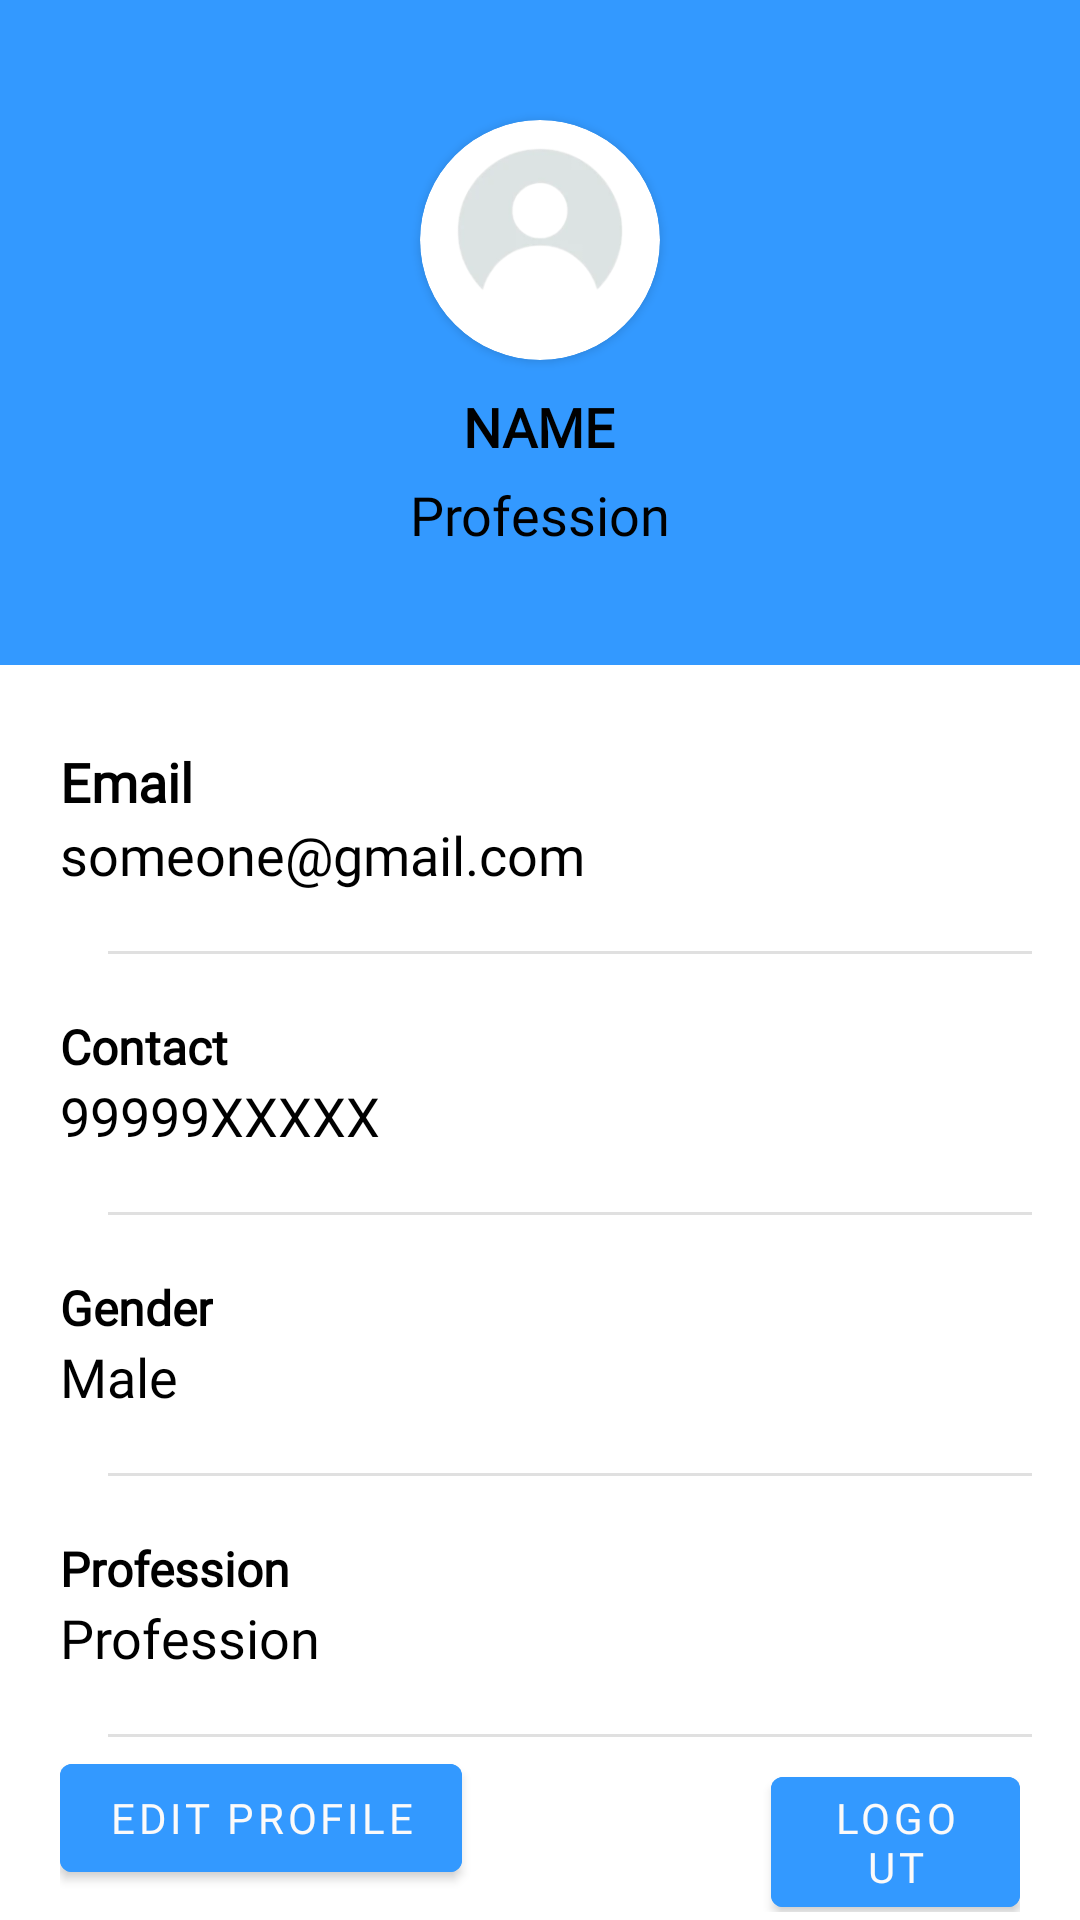

Icons on this 1080 × 1920 Android screen, each with its box as BBox(x1, y1, x2, y2):
profile: BBox(420, 120, 660, 360)
